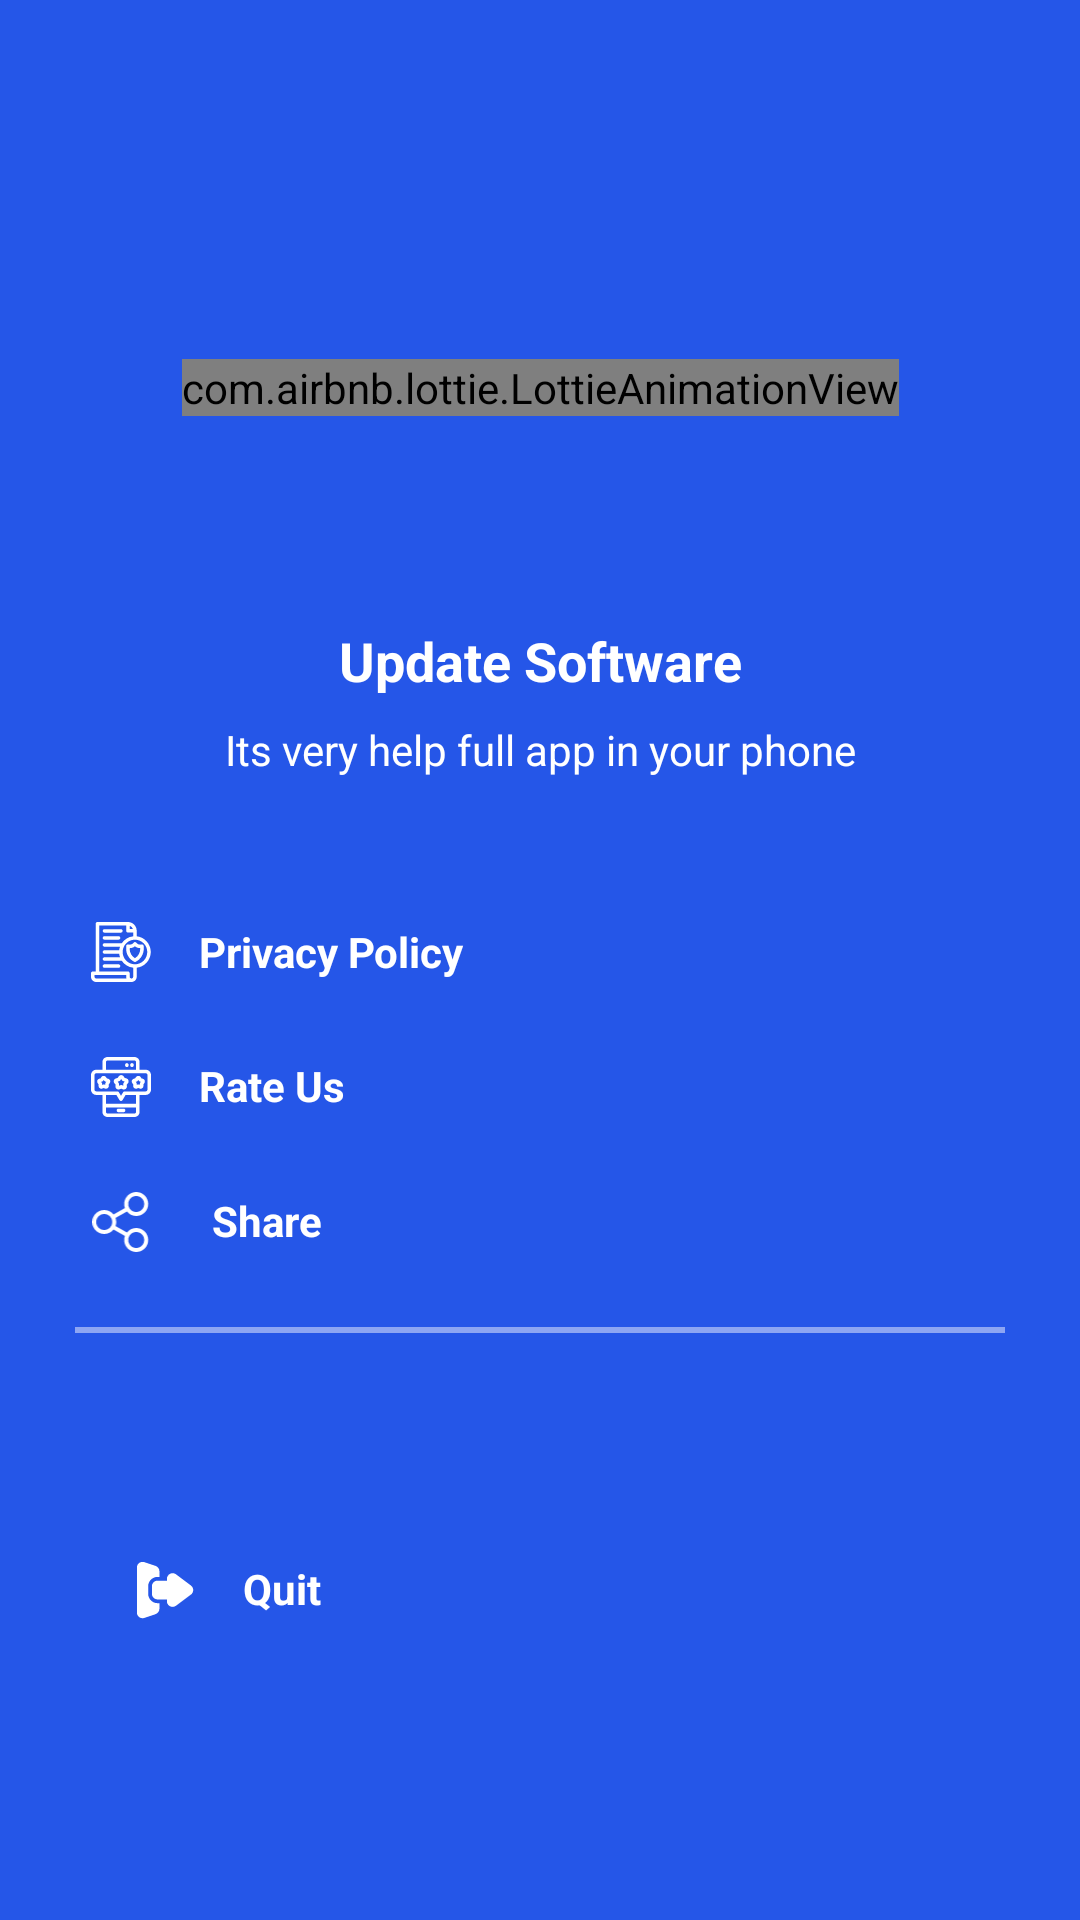

Where icons sit on this 1080x1920 app screen, as (x1, y1, x2, y2):
rateapp: (91, 1057, 151, 1117)
